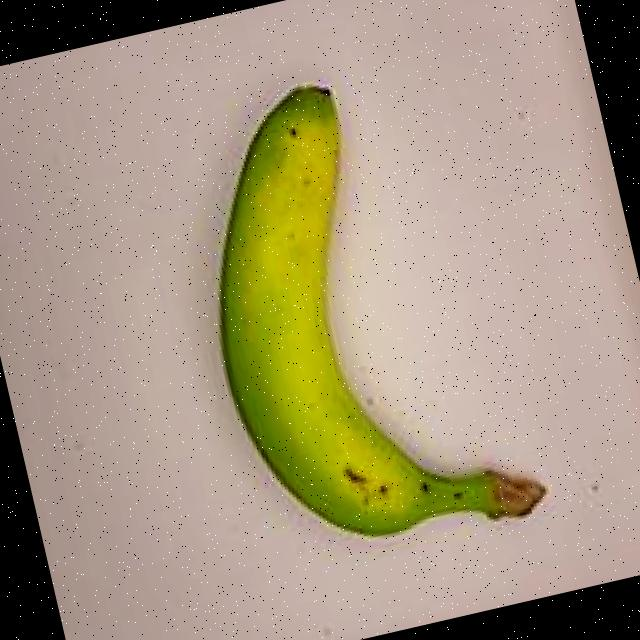Unripe: (124, 0, 587, 613)
